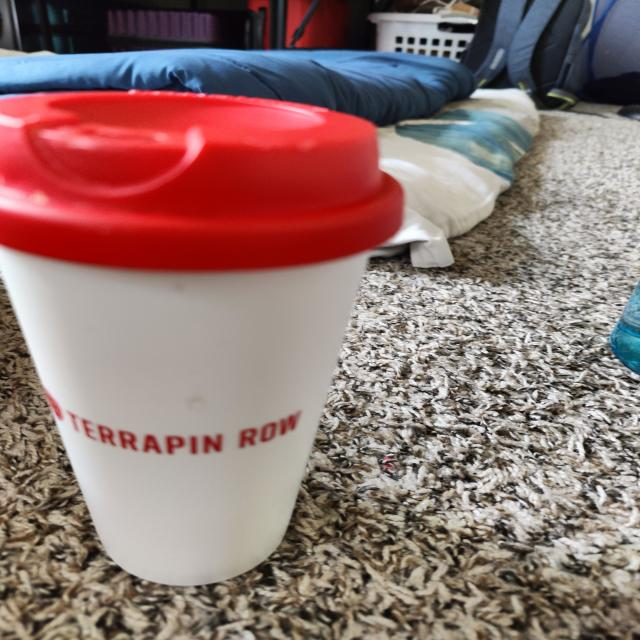mug: (2, 101, 394, 580)
